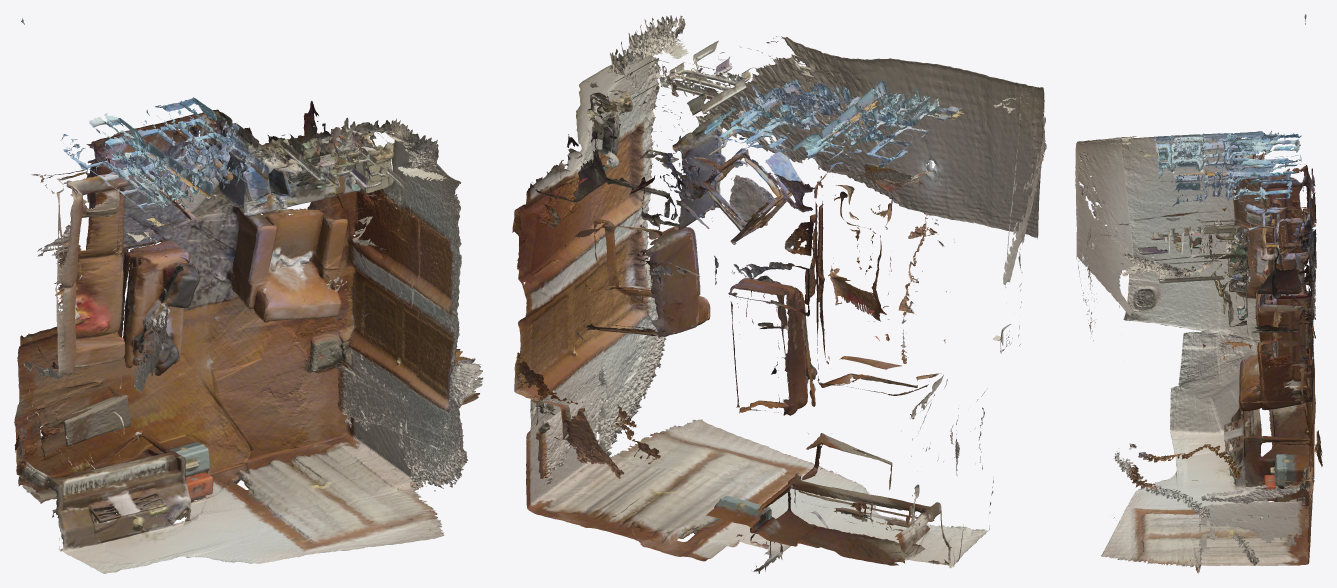
3 views of the same model, side by side, from view 1: azimuth 30°, elevation 25°; view 2: azimuth 150°, elevation 25°; view 3: azimuth 270°, elevation 25° (orthographic). The views are drawn at different scales.
Parts seen in each view (by area): view 1: world; view 2: world; view 3: world.
Boxes of the visible parts, x1,y1,x2,y2 form: world: [14, 18, 483, 573]; world: [512, 15, 1046, 573]; world: [1075, 14, 1322, 573].
Bounding box in the file's own units: 4.14 × 5.4 × 2.82.
